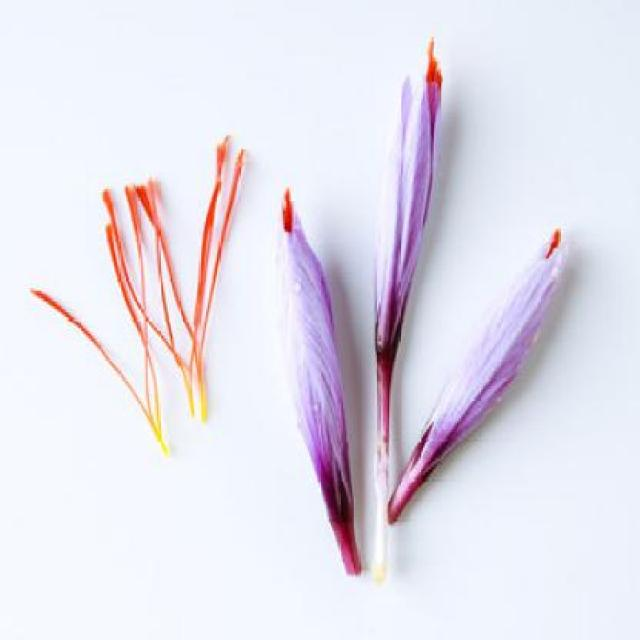Flower: (376, 215, 575, 527), (274, 183, 363, 579), (358, 51, 450, 377)
stigma: (95, 183, 212, 422), (28, 288, 172, 460), (182, 146, 251, 424), (185, 134, 239, 428), (120, 182, 169, 458), (422, 37, 443, 90), (278, 189, 302, 235)
